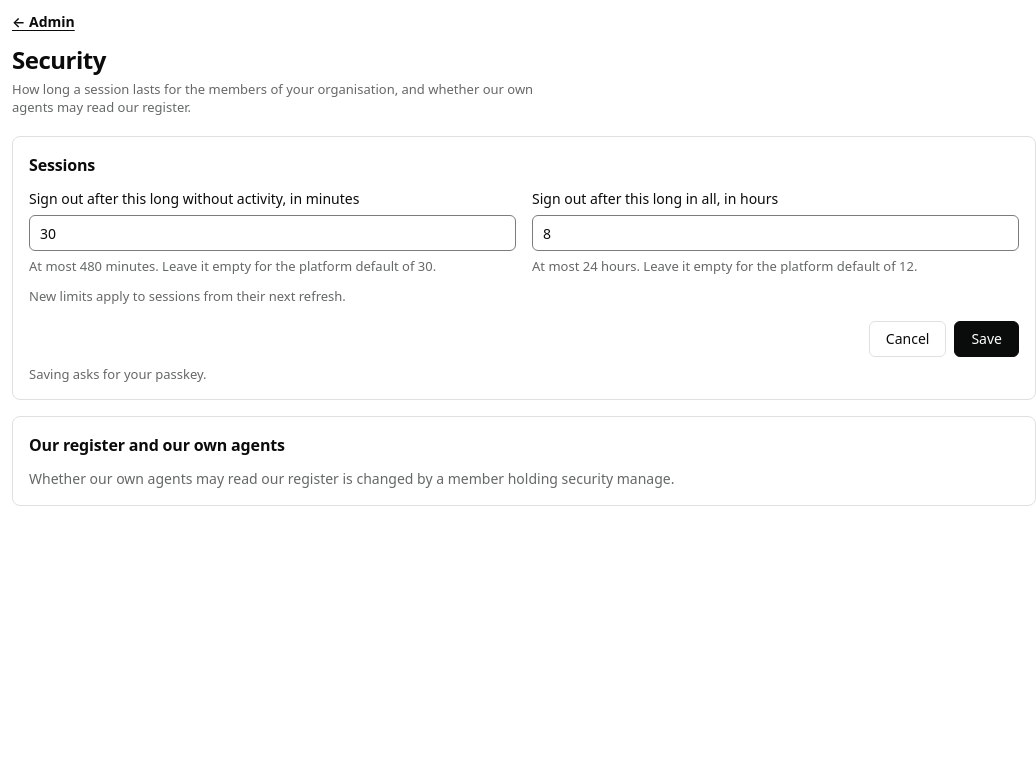
the security page › says nothing was saved when the passkey is not confirmed
This screenshot has width=1036, height=780.
Check: the field labelled "Sign out after this long without activity, in minutes" is shown, box [29,215,516,251]
Click the button "Save": [987, 339] box [954,321,1019,357]
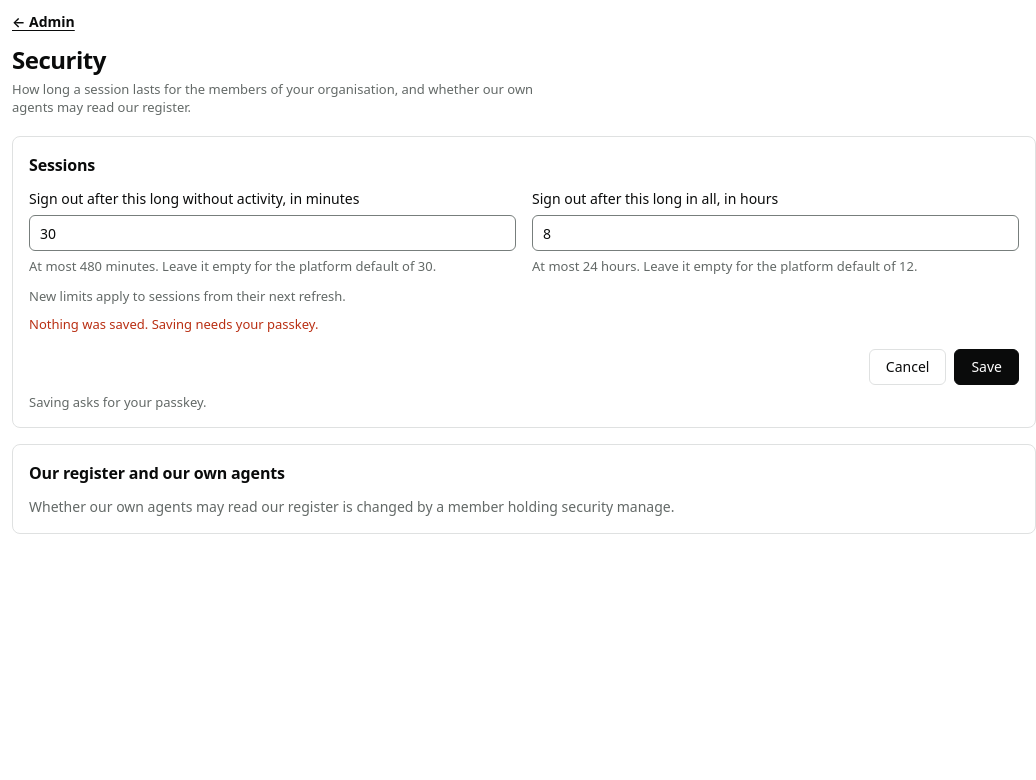
Check: the text "Nothing was saved. Saving needs your passkey." is shown, box [29,315,318,333]
